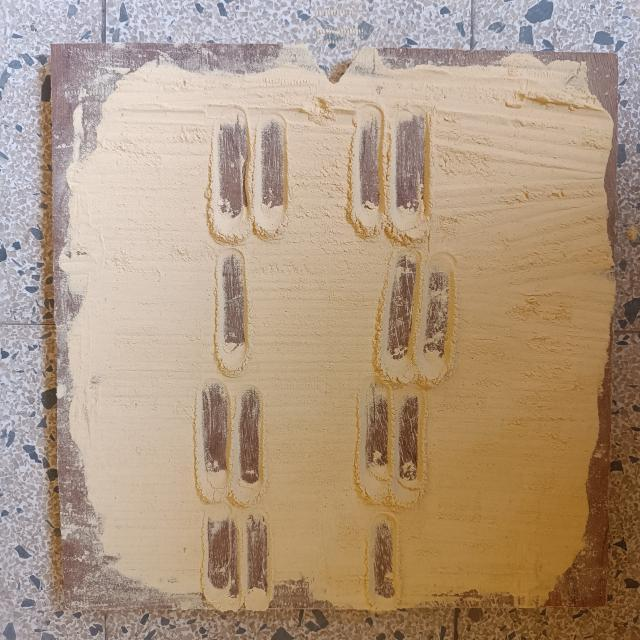double: (344, 99, 434, 243), (373, 248, 461, 390), (202, 113, 288, 242), (350, 382, 429, 518), (193, 378, 268, 514), (193, 504, 276, 616)
single: (209, 245, 257, 382), (362, 514, 406, 612)
